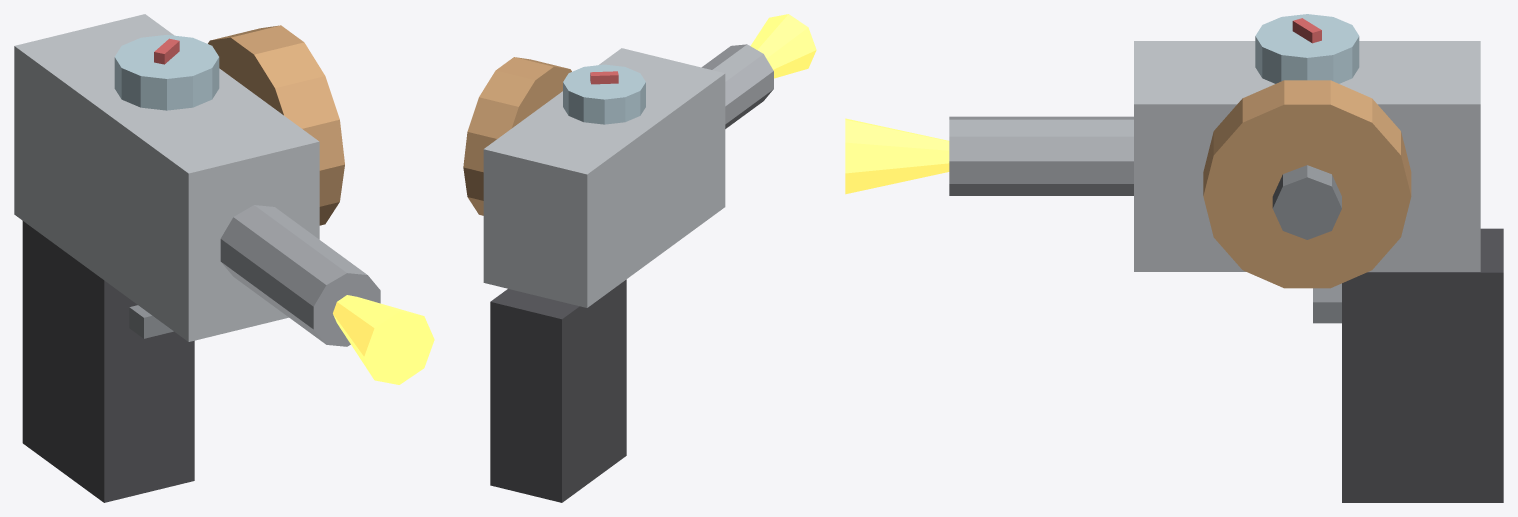
File: repair_tool.glb
3 renders of one model, left to right at view 1: azimuth 30°, elevation 25°; view 2: azimuth 150°, elevation 25°; view 3: azimuth 270°, elevation 25°, orthographic. The views are drawn at different scales.
Parts seen in each view (by area): view 1: repair_tool; view 2: repair_tool; view 3: repair_tool.
Part boxes in pixels (bbox=[...]): repair_tool: bbox=[14, 14, 434, 502]; repair_tool: bbox=[463, 14, 816, 502]; repair_tool: bbox=[845, 14, 1503, 502].
Size of the model in its own units: 0.215 by 0.435 by 0.57.
